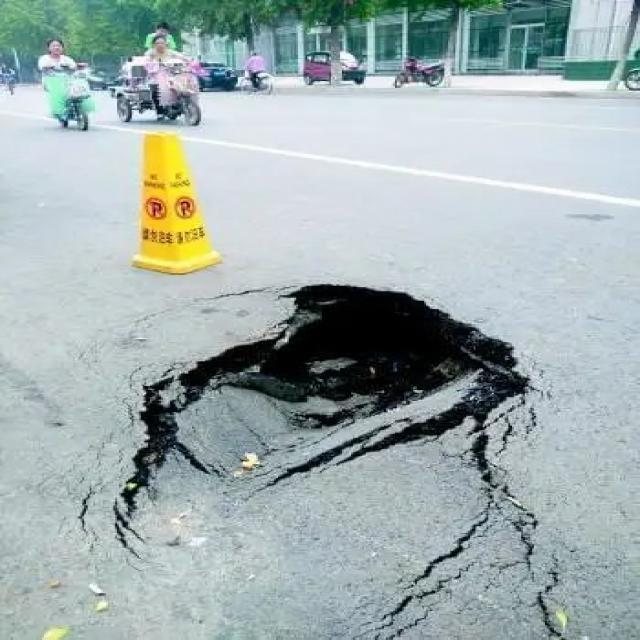pothole: (106, 283, 540, 569)
